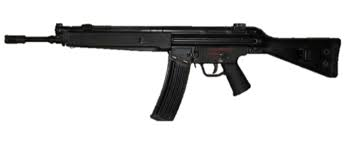gun: (2, 21, 342, 123)
